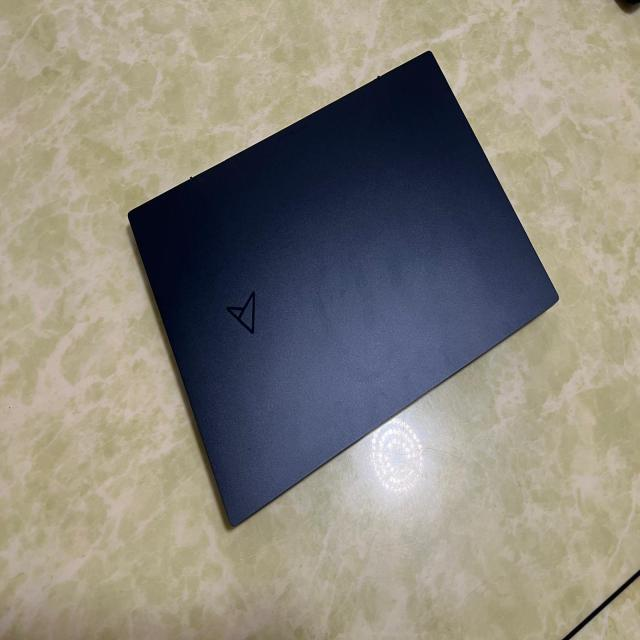laptop: (126, 49, 559, 528)
